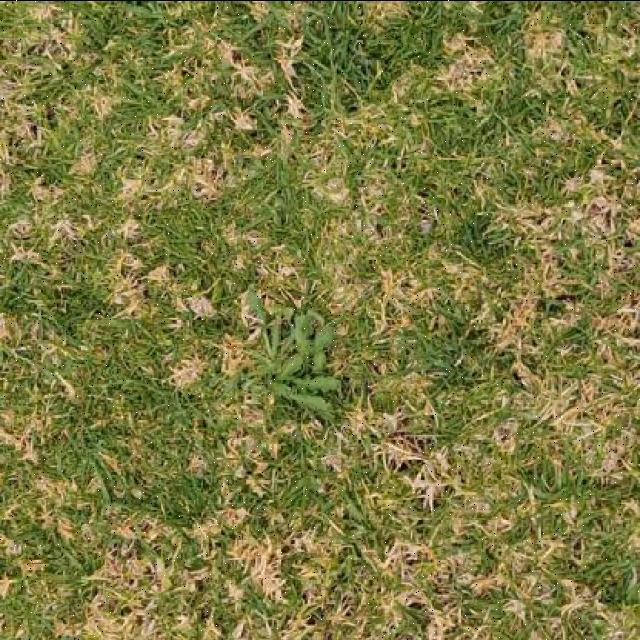weed: (248, 291, 341, 417), (266, 311, 341, 415)
